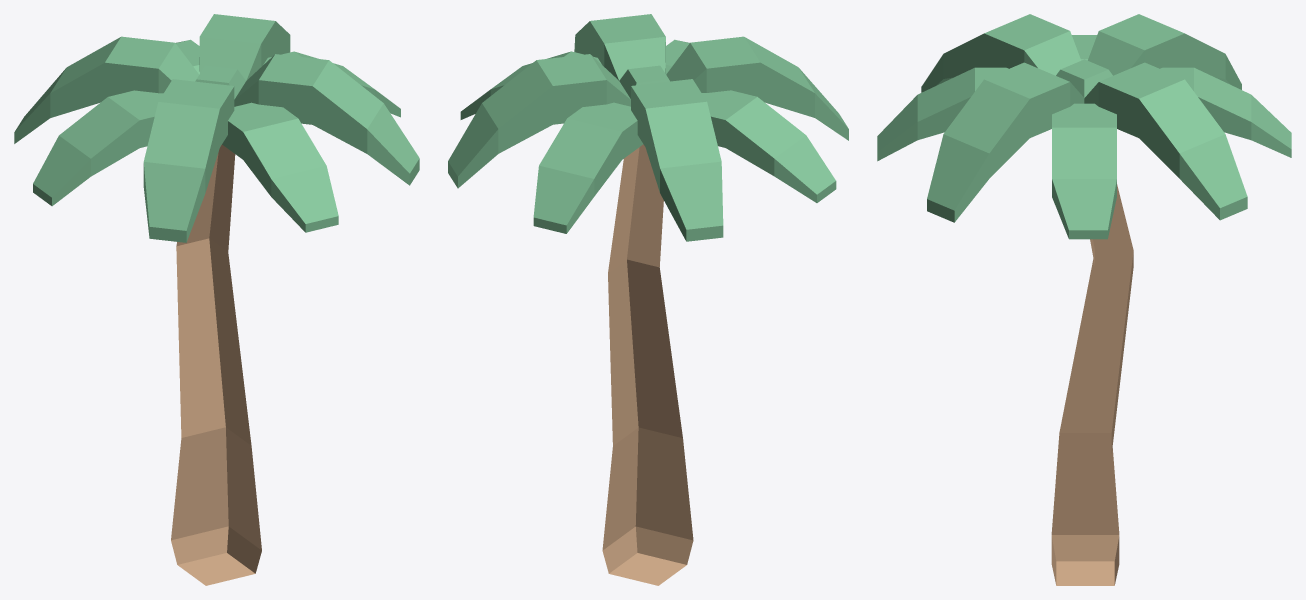
The model's file is palmier_detaille_long.glb.
3 views of the same model, side by side, from view 1: azimuth 30°, elevation 25°; view 2: azimuth 150°, elevation 25°; view 3: azimuth 270°, elevation 25° (orthographic).
Visible parts, largest first — view 1: palmier_detaille_long_assimp; view 2: palmier_detaille_long_assimp; view 3: palmier_detaille_long_assimp.
Boxes of the visible parts, x1,y1,x2,y2 form: palmier_detaille_long_assimp: [14, 14, 419, 585]; palmier_detaille_long_assimp: [448, 14, 848, 585]; palmier_detaille_long_assimp: [877, 14, 1291, 585].
Size of the model in its own units: 15.44 by 21.26 by 15.44.
